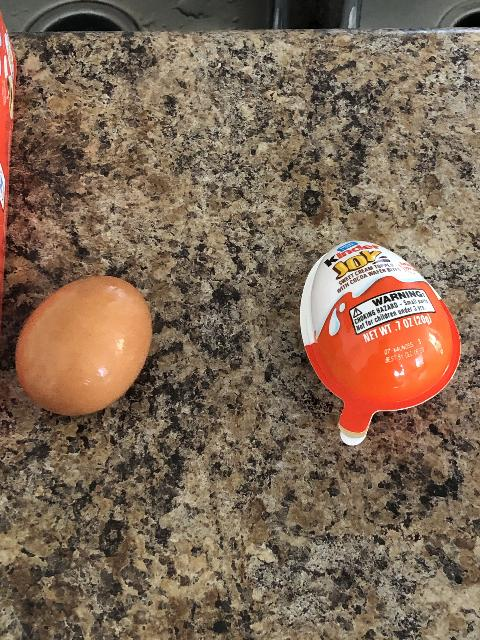Sano: (12, 272, 153, 418)
